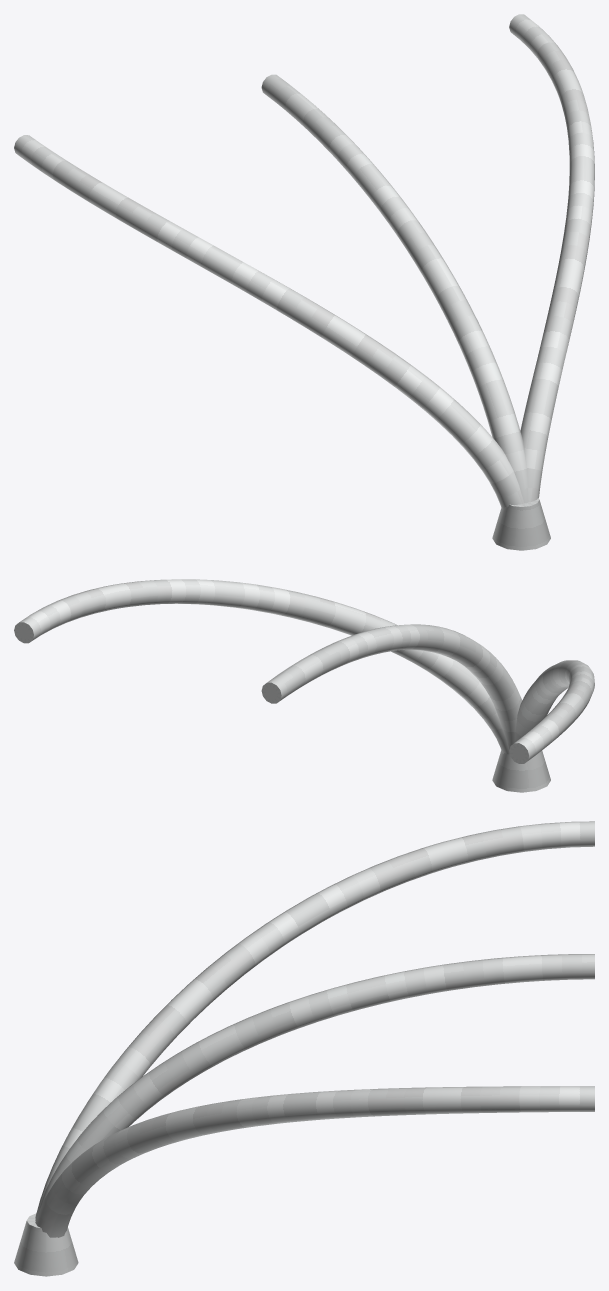
The model's file is luminairearm_vannuystriple_inv.obj.
3 views of the same model, one above another, from view 1: azimuth 30°, elevation 25°; view 2: azimuth 150°, elevation 25°; view 3: azimuth 270°, elevation 25° (orthographic). The views are drawn at different scales.
Parts seen in each view (by area): view 1: luminairearm_vannuystriple_inv; view 2: luminairearm_vannuystriple_inv; view 3: luminairearm_vannuystriple_inv.
Part boxes in pixels (box(x1,y1,x2,y2)): luminairearm_vannuystriple_inv: box(14, 14, 594, 550); luminairearm_vannuystriple_inv: box(14, 579, 594, 792); luminairearm_vannuystriple_inv: box(14, 821, 594, 1276).
Size of the model in its own units: 1 by 0.5205 by 0.8902.
